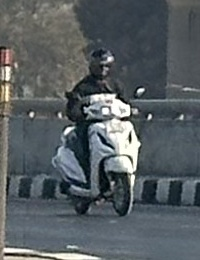BikeWithRider: (47, 43, 155, 219)
Helmet: (82, 44, 119, 80)
